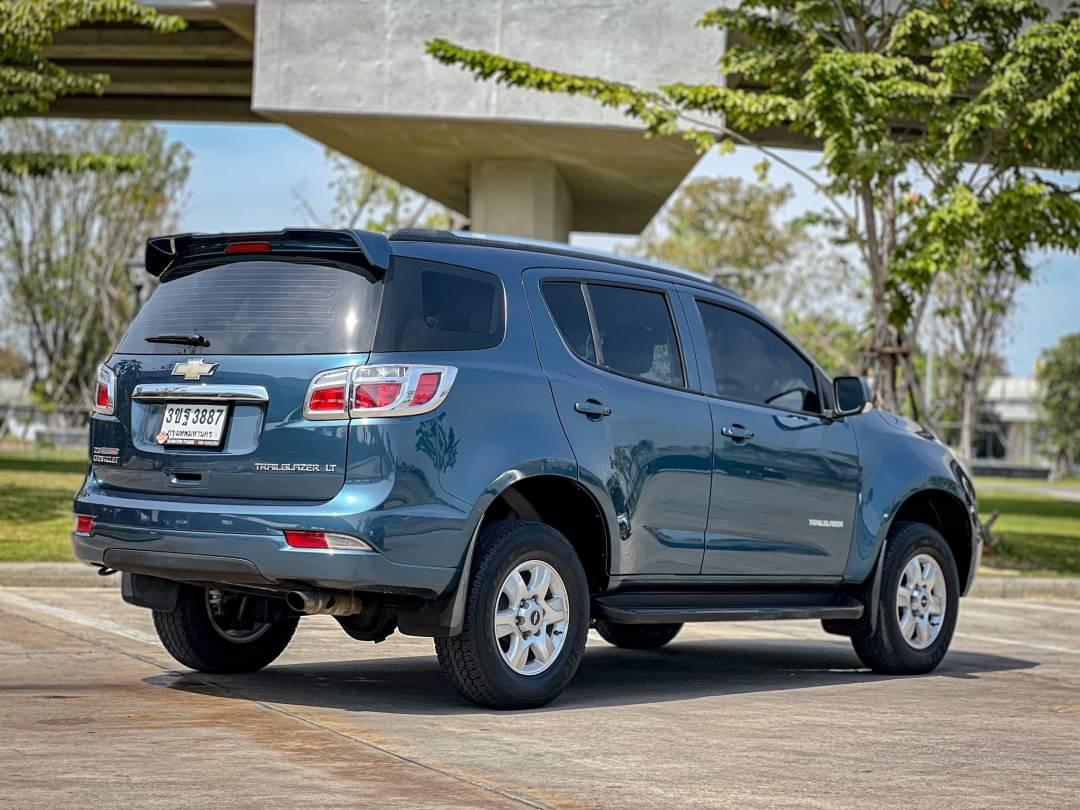license-plate: (154, 400, 234, 449)
